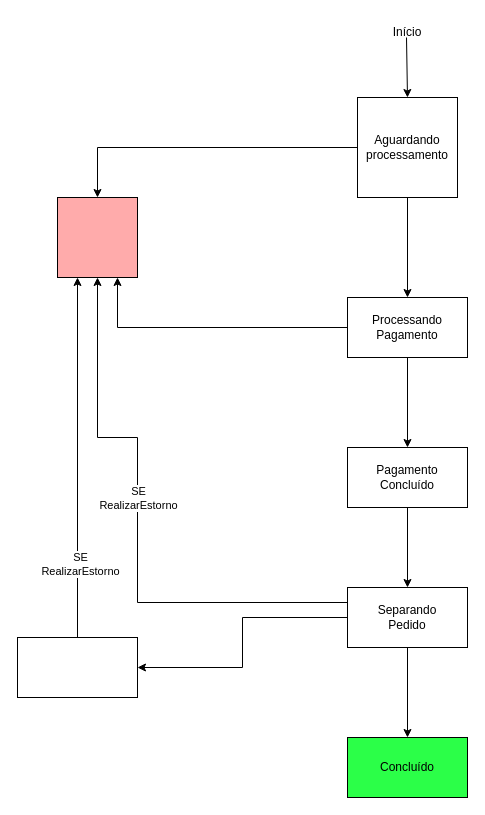
The diagram is 485 pixels wide and 815 high, and some of its shapes have lost their labels. The box of each missing label's shape, as (x1, y1, x2, y2) in pixels:
Aguardando Estoque: (16, 636, 138, 698)
Cancelado: (56, 196, 138, 278)
